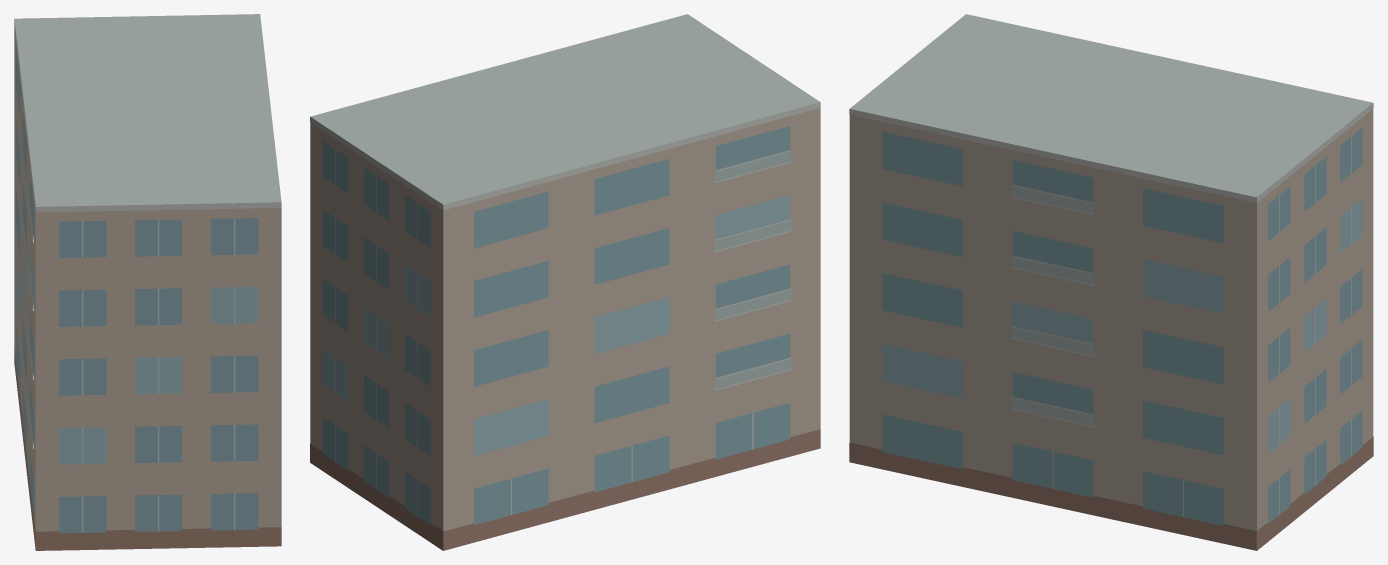
File: survey-upis-32893915.glb
3 views of the same model, side by side, from view 1: azimuth 30°, elevation 25°; view 2: azimuth 150°, elevation 25°; view 3: azimuth 270°, elevation 25° (orthographic). The views are drawn at different scales.
Visible parts, largest first — view 1: survey-upis-32893915.tmp; view 2: survey-upis-32893915.tmp; view 3: survey-upis-32893915.tmp.
Boxes of the visible parts, x1,y1,x2,y2 form: survey-upis-32893915.tmp: [14, 14, 281, 550]; survey-upis-32893915.tmp: [310, 14, 820, 550]; survey-upis-32893915.tmp: [849, 14, 1373, 550].
Bounding box in the file's own units: 16.71 × 15 × 20.16.
